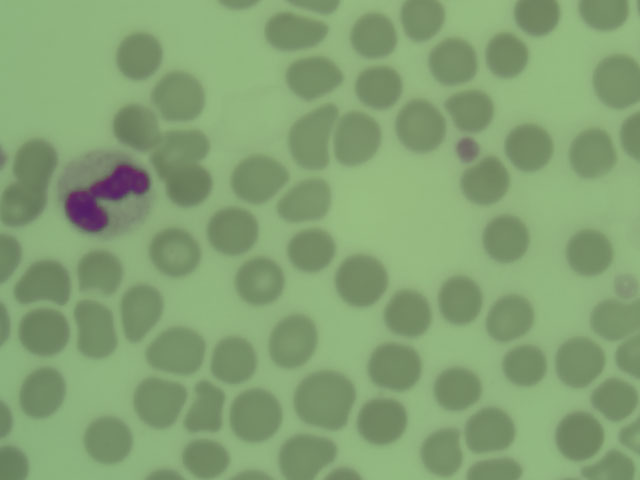RBC: (285, 105, 336, 168), (69, 298, 113, 365), (297, 369, 349, 425), (109, 97, 158, 145), (88, 417, 137, 465), (149, 229, 197, 277), (592, 55, 640, 103), (208, 206, 256, 254), (567, 230, 615, 278), (163, 127, 211, 175), (480, 215, 528, 263), (430, 38, 478, 86), (395, 102, 443, 150), (352, 61, 400, 109), (288, 56, 336, 104), (334, 116, 382, 164), (269, 314, 317, 362), (211, 336, 259, 384), (151, 324, 199, 372), (132, 375, 180, 423), (19, 365, 67, 413), (20, 305, 68, 353), (383, 287, 431, 335), (283, 178, 331, 226), (287, 227, 335, 275), (10, 134, 58, 182), (508, 122, 556, 170), (236, 255, 284, 303), (21, 256, 69, 304), (231, 155, 279, 203), (152, 71, 200, 119), (115, 29, 163, 77), (436, 275, 484, 323), (488, 294, 536, 342), (591, 374, 639, 422), (552, 413, 600, 461), (560, 336, 608, 384), (497, 341, 545, 389), (234, 391, 282, 439), (281, 429, 329, 477), (417, 425, 465, 473), (467, 400, 515, 448), (432, 366, 480, 414), (357, 394, 405, 442), (374, 337, 422, 385), (181, 384, 226, 435), (262, 10, 324, 47), (181, 430, 230, 476), (340, 249, 378, 304), (398, 1, 451, 40), (76, 249, 123, 290), (123, 284, 157, 340), (565, 133, 613, 172), (460, 161, 508, 200), (350, 13, 394, 54), (581, 450, 640, 480), (460, 450, 519, 480), (445, 90, 496, 124), (591, 305, 635, 341), (518, 1, 560, 35), (1, 439, 35, 480), (576, 1, 629, 27), (483, 36, 523, 70)
WBC: (55, 149, 143, 237)
